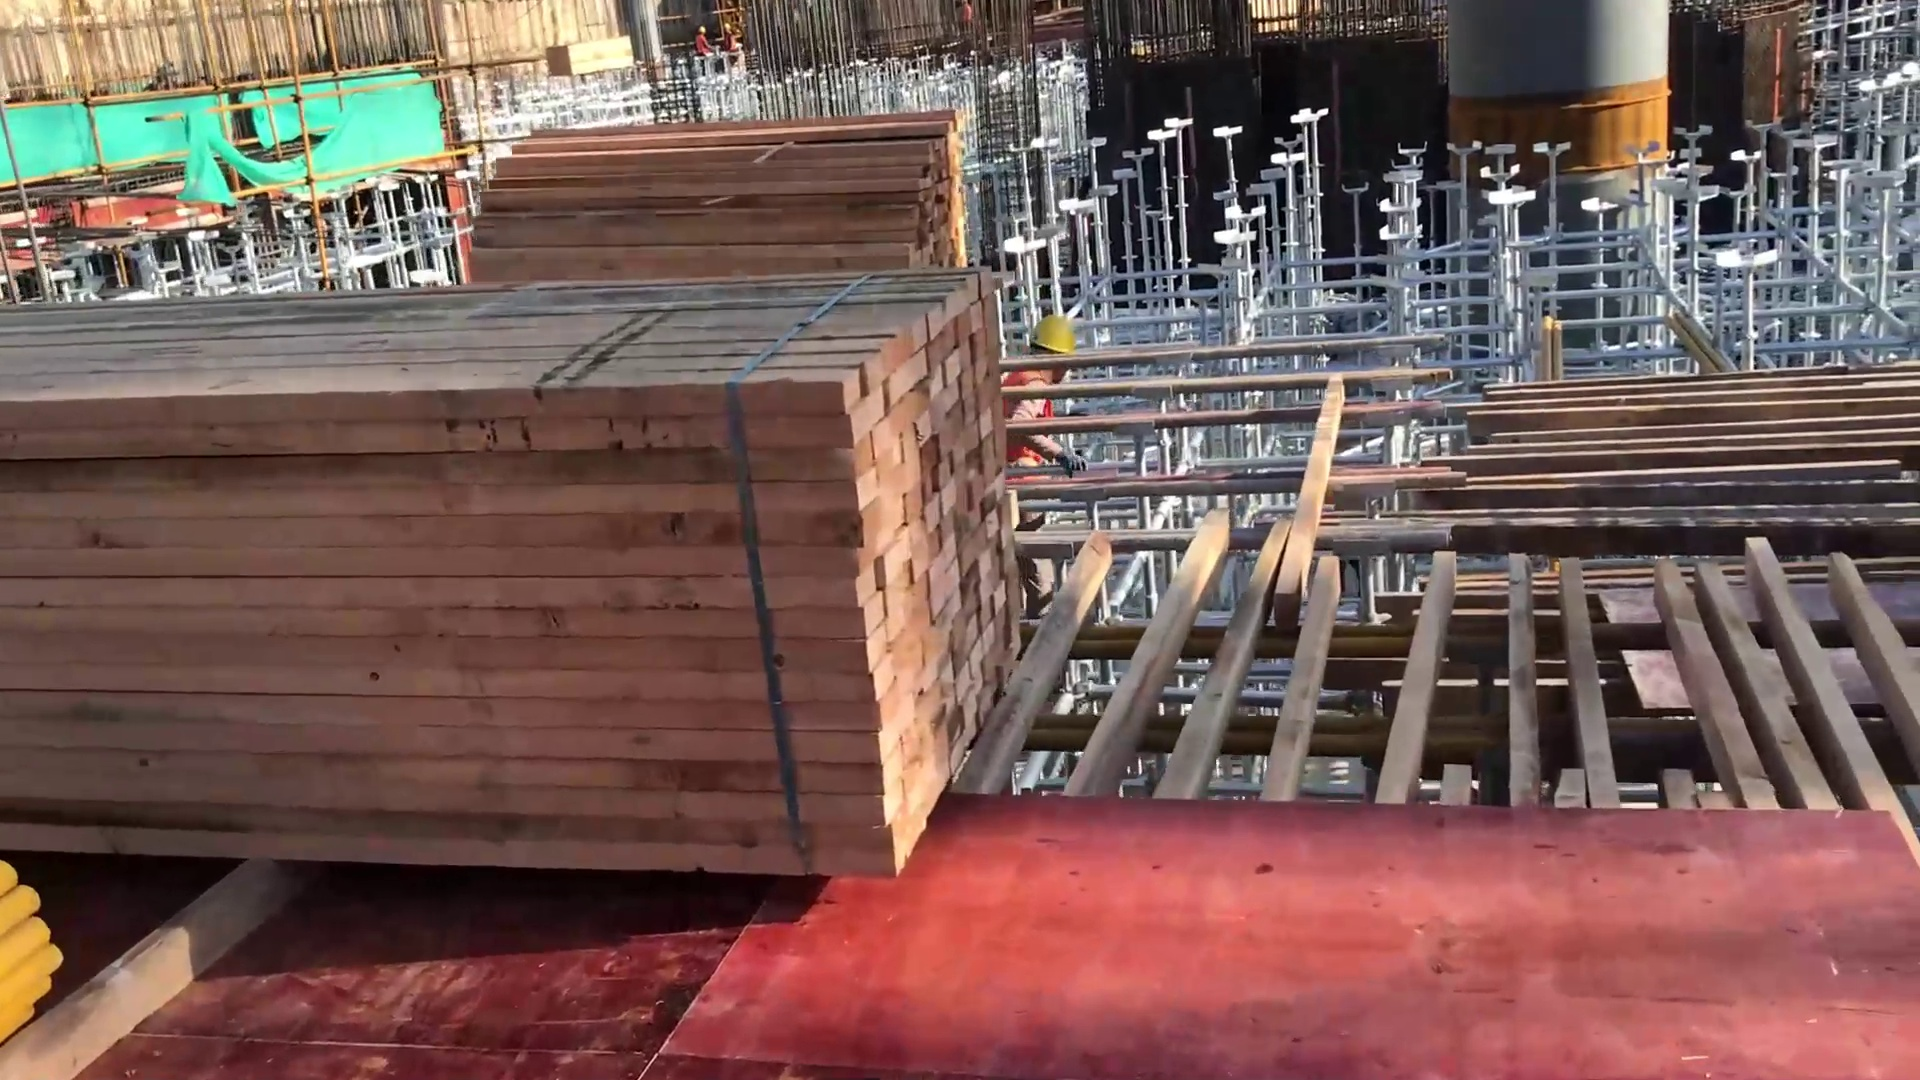helmet: (1029, 299, 1088, 365)
vest: (996, 364, 1069, 487)
wood: (1, 104, 998, 856)
